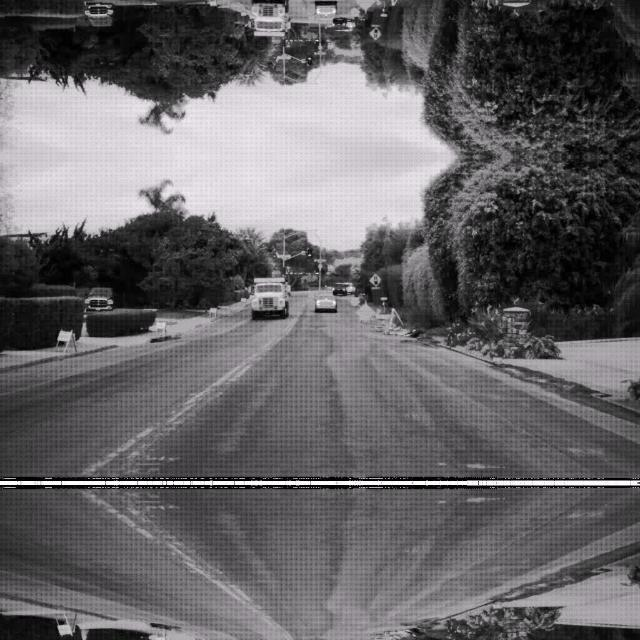signalAhead: (368, 272, 382, 284), (368, 28, 382, 40)
